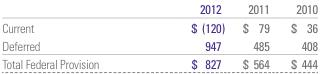table: (1, 0, 317, 71)
table column: (1, 0, 144, 71), (144, 0, 233, 71), (233, 0, 279, 71), (279, 0, 317, 71)
table column header: (1, 0, 317, 17)
table row: (1, 35, 317, 54), (1, 17, 317, 35), (1, 0, 317, 17), (1, 54, 317, 71)
